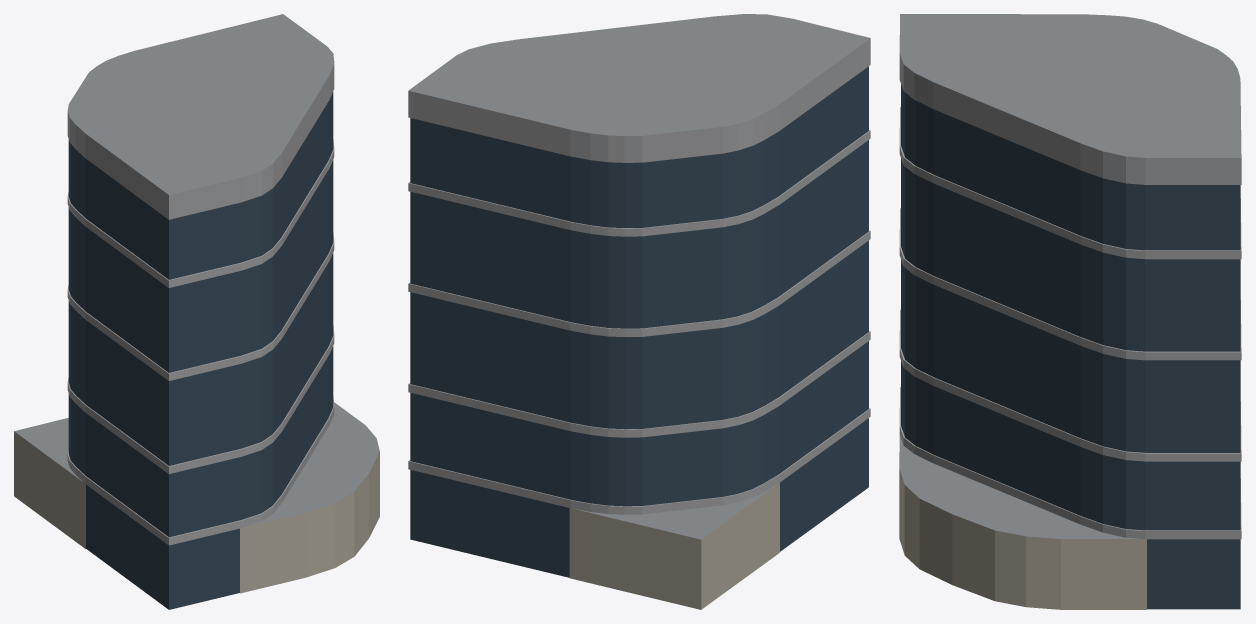
Rendered from 170_south_main.glb.
The picture shows the model from 3 angles, left to right: view 1: azimuth 30°, elevation 25°; view 2: azimuth 150°, elevation 25°; view 3: azimuth 270°, elevation 25°; orthographic projection. The views are drawn at different scales.
Parts seen in each view (by area): view 1: 170_South_Main; view 2: 170_South_Main; view 3: 170_South_Main.
Boxes of the visible parts, <box> form: 170_South_Main: <box>14,14,379,609</box>; 170_South_Main: <box>408,14,870,609</box>; 170_South_Main: <box>899,14,1241,609</box>.
Size of the model in its own units: 45.74 by 67 by 45.99.
